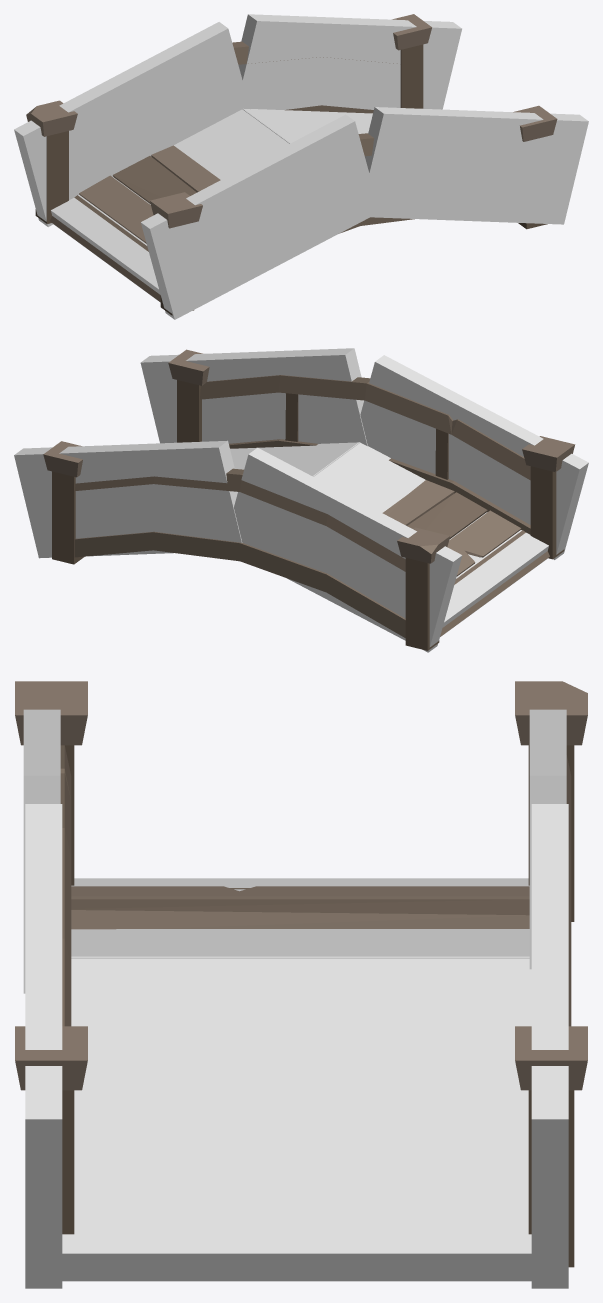
The model's file is bridge_wood.glb.
The picture shows the model from 3 angles, top to bottom: view 1: azimuth 30°, elevation 25°; view 2: azimuth 150°, elevation 25°; view 3: azimuth 270°, elevation 25°; orthographic projection. The views are drawn at different scales.
Visible parts, largest first — view 1: Cube.005, Cube.001, Cube.006, Cube.002, bridge, Cube.004, Cube.003; view 2: bridge, Cube.002, Cube.006, Cube.005, Cube.001, Cube.004, Cube.003; view 3: Cube.003, bridge, Cube.004, Cube.001, Cube.002, Cube.005, Cube.006.
Boxes of the visible parts, x1,y1,x2,y2 form: Cube.005: (141, 114, 379, 319); Cube.001: (365, 107, 588, 224); Cube.006: (14, 22, 250, 226); Cube.002: (238, 14, 461, 109); bridge: (26, 14, 557, 315); Cube.004: (51, 108, 290, 302); Cube.003: (242, 109, 372, 143); bridge: (43, 349, 575, 650); Cube.002: (14, 440, 242, 558); Cube.006: (234, 447, 462, 652); Cube.005: (360, 355, 588, 559); Cube.001: (140, 348, 367, 446); Cube.004: (312, 442, 548, 636); Cube.003: (230, 442, 360, 476); Cube.003: (62, 956, 531, 1281); bridge: (15, 681, 587, 1267); Cube.004: (71, 878, 529, 958); Cube.001: (25, 804, 62, 1288); Cube.002: (531, 804, 568, 1288); Cube.005: (23, 709, 60, 993); Cube.006: (529, 709, 566, 969).
Bounding box in the file's own units: 5.08 × 1.71 × 2.87.
1 material, 1 textured.
